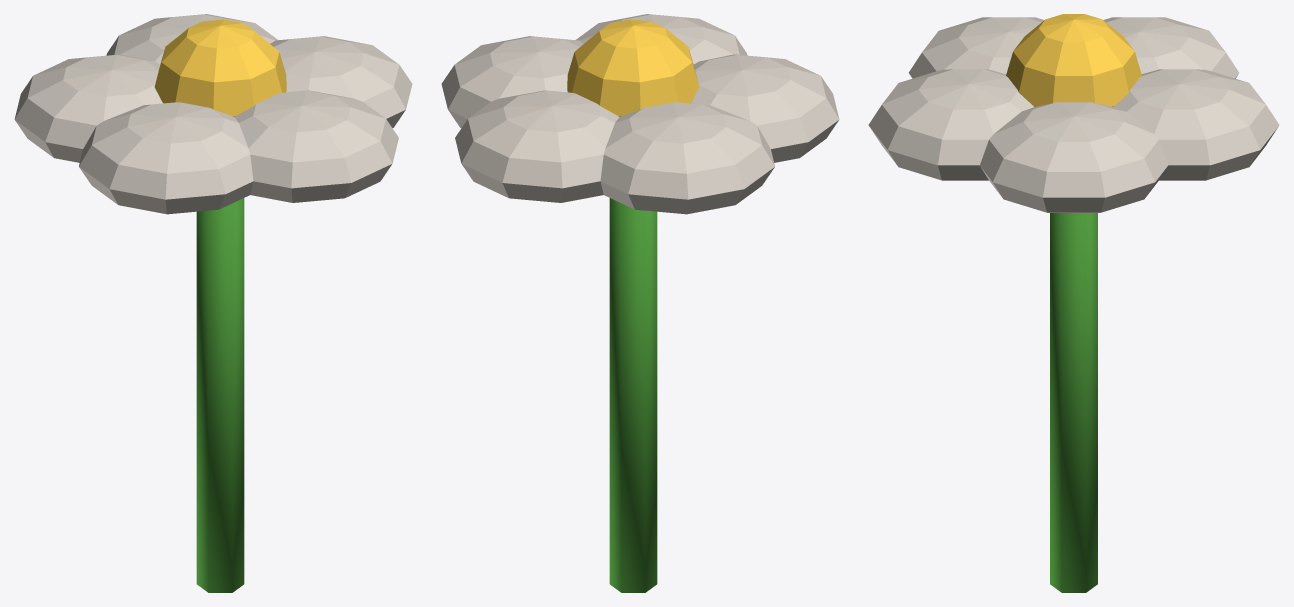
Rendered from flower_white.glb.
3 renders of one model, left to right at view 1: azimuth 30°, elevation 25°; view 2: azimuth 150°, elevation 25°; view 3: azimuth 270°, elevation 25°, orthographic.
Visible parts, largest first — view 1: flower_white; view 2: flower_white; view 3: flower_white.
Boxes of the visible parts, x1,y1,x2,y2 form: flower_white: [14, 14, 412, 592]; flower_white: [441, 14, 839, 592]; flower_white: [868, 14, 1279, 592].
Size of the model in its own units: 0.1946 by 0.31 by 0.2046.
